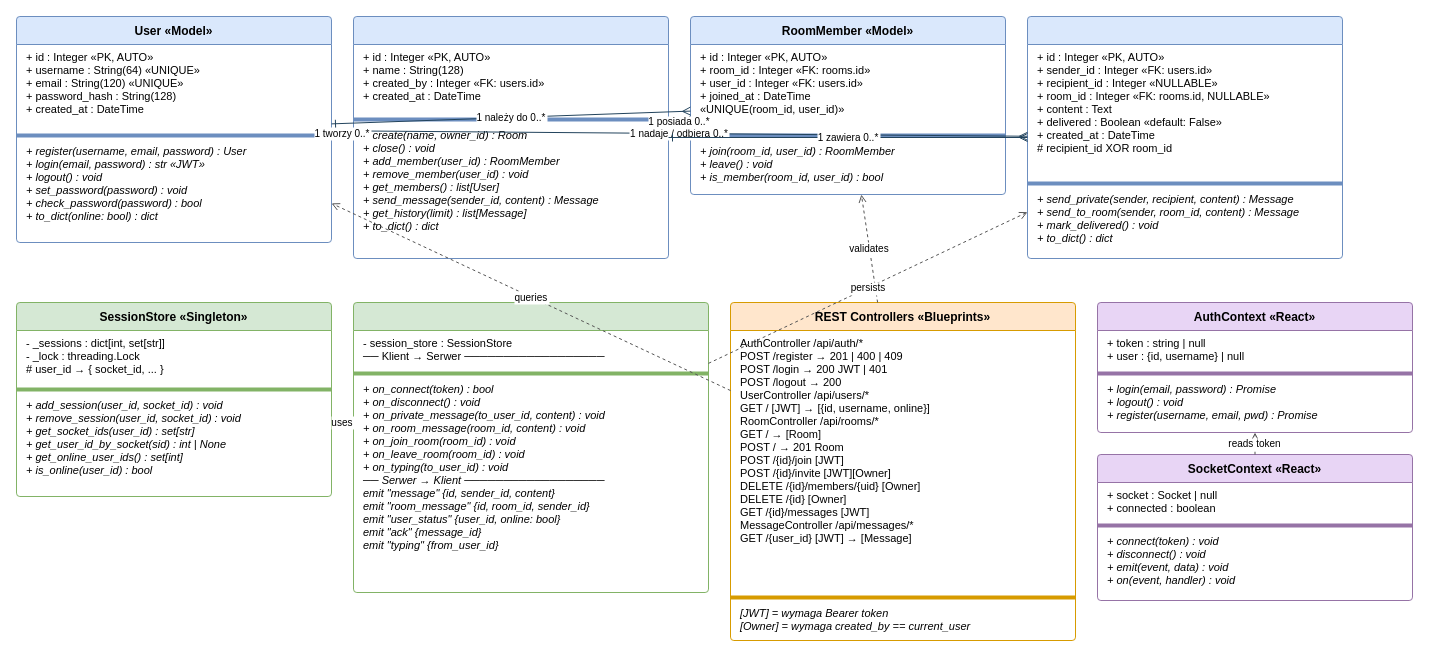
Some shapes in this 1429 by 657 pixel diagram are drawn without their labels. The shapes that lost their labels are listed below. From the top down, each one's box as (x1, y1, x2, y2) in pixels, then its label:
(352, 16, 668, 258): Room «Model»
(1026, 16, 1342, 258): Message «Model»
(352, 302, 708, 592): SocketEvents «Flask-SocketIO»
